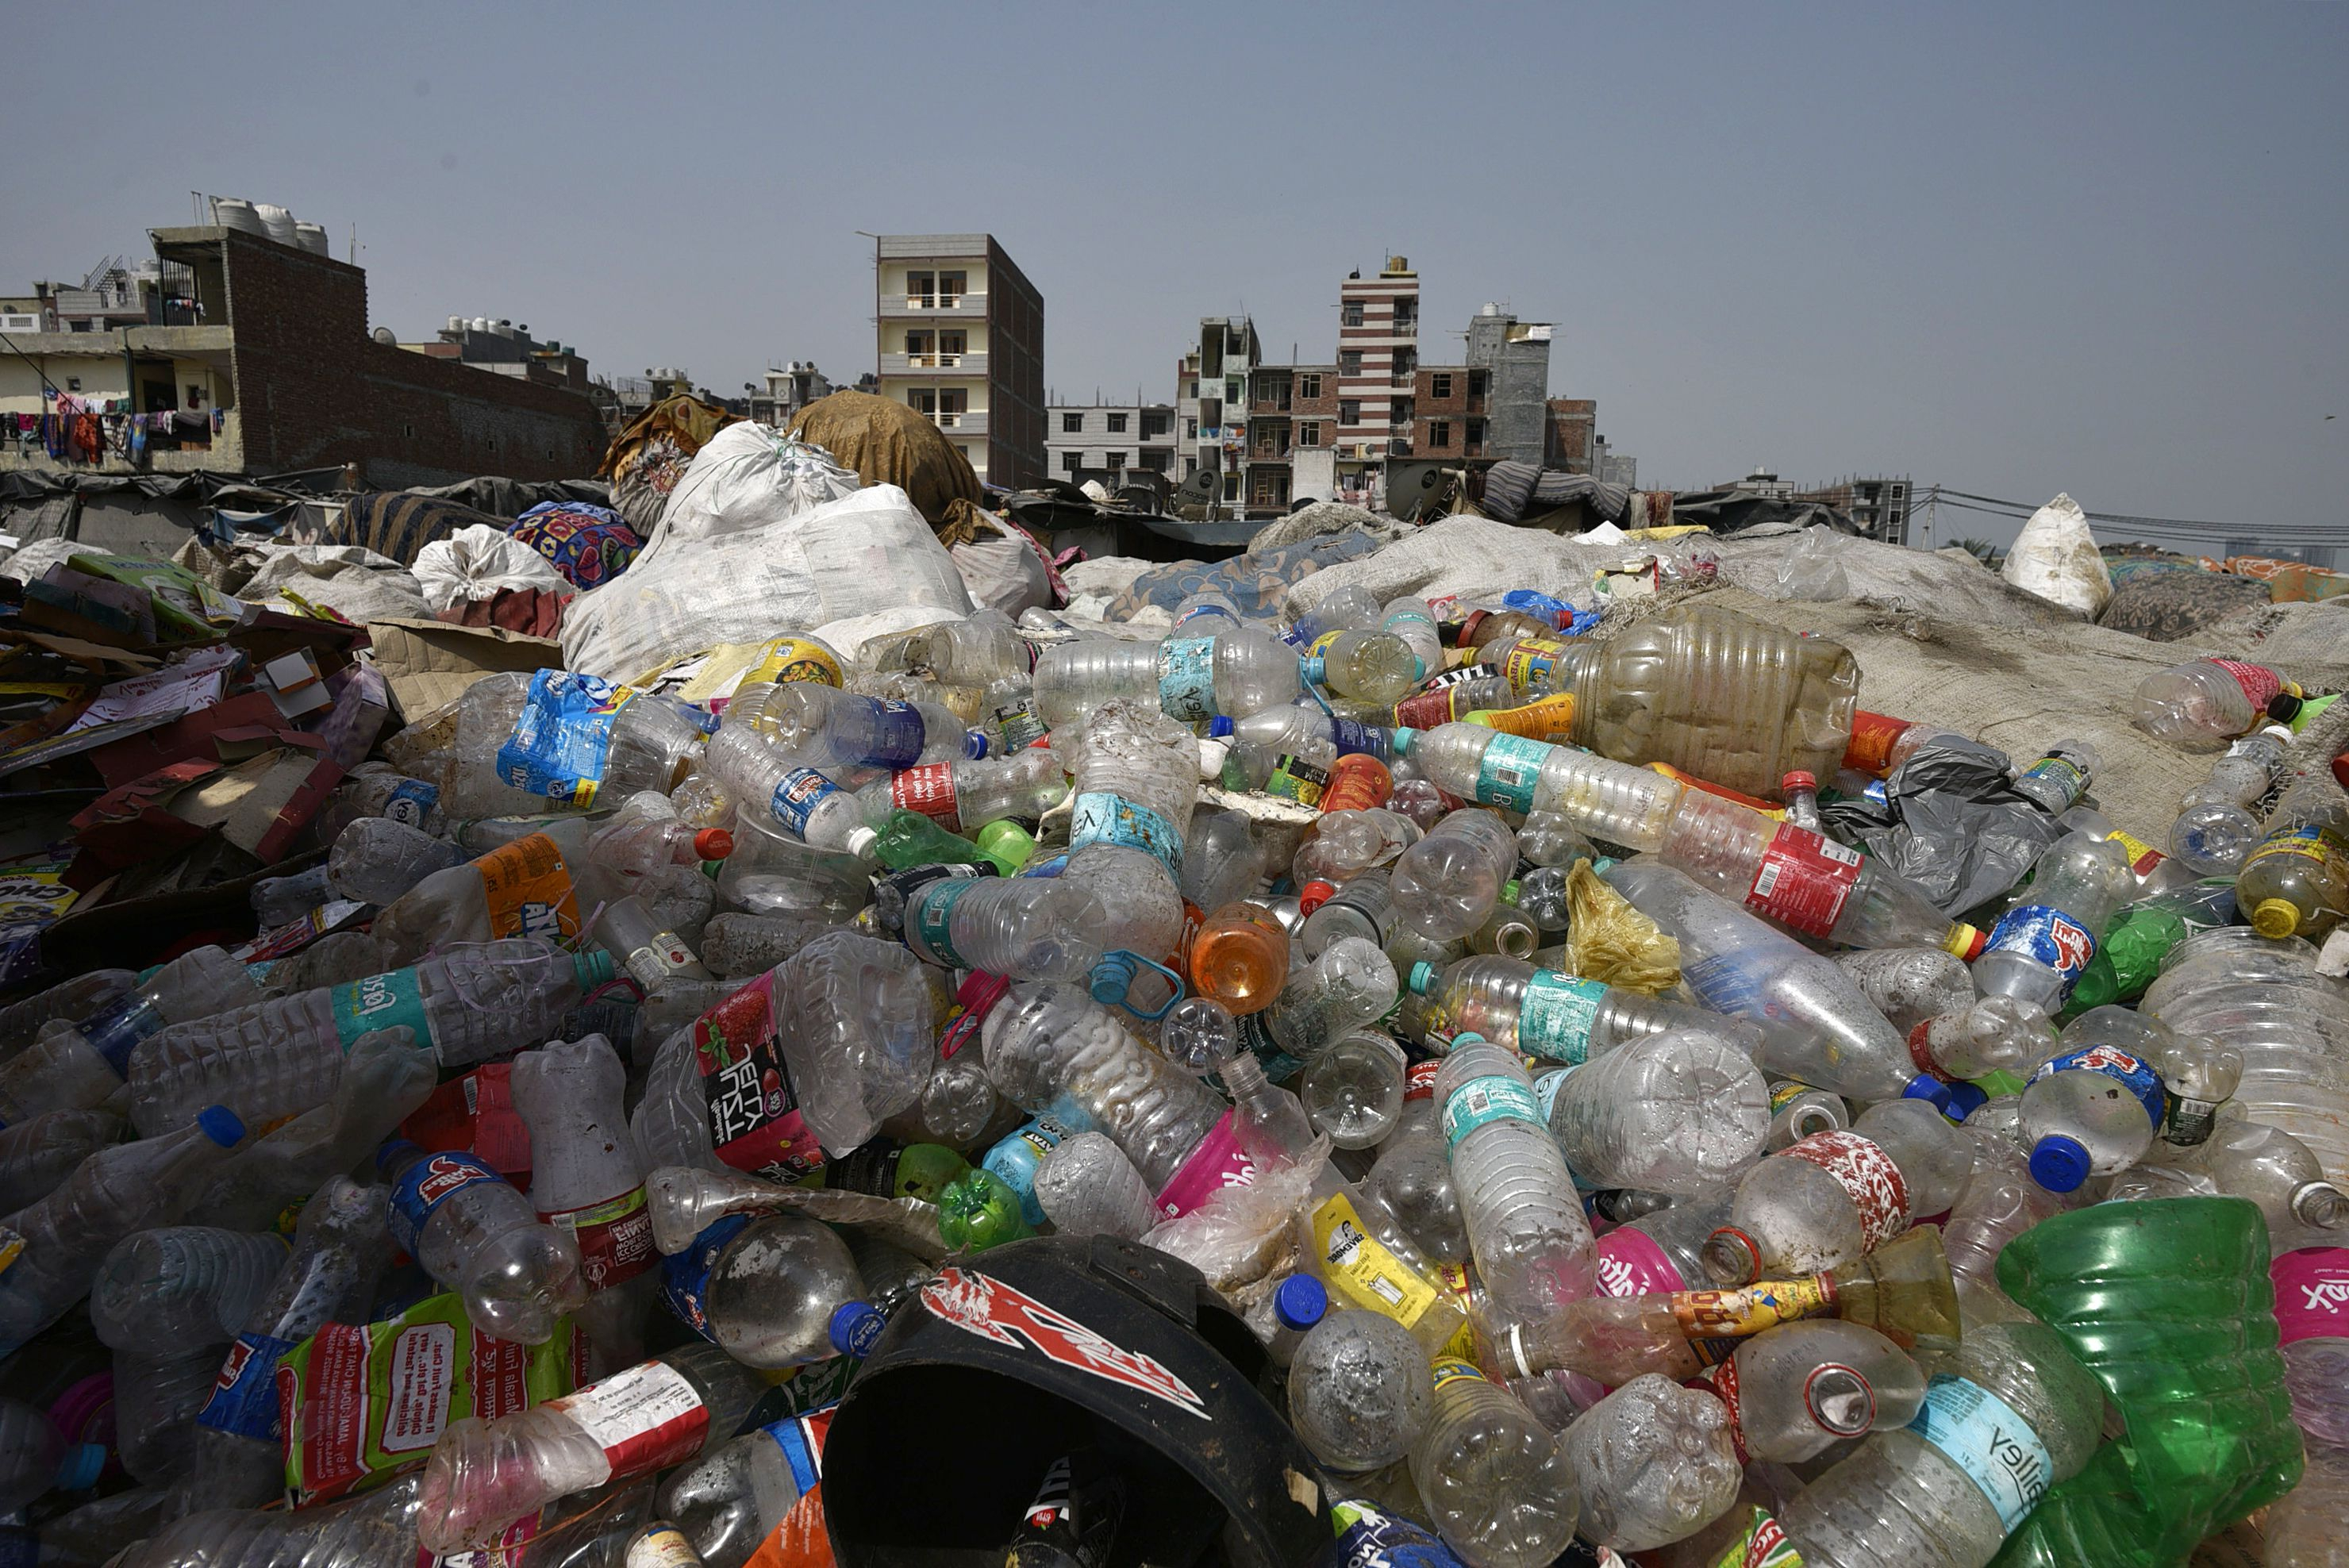plastic water bottle: (124, 913, 611, 1157), (973, 971, 1302, 1246), (1796, 1309, 2121, 1568), (404, 1332, 791, 1536), (186, 1160, 397, 1528), (0, 1092, 263, 1353), (1659, 775, 1990, 980), (616, 1169, 901, 1395), (0, 926, 280, 1144), (1397, 934, 1770, 1092), (1691, 1092, 1976, 1293), (1421, 1024, 1602, 1333), (357, 1125, 595, 1347), (1378, 1339, 1602, 1568), (1383, 707, 1689, 868), (509, 1038, 670, 1335), (1064, 693, 1194, 1024), (1031, 619, 1332, 737), (1210, 929, 1406, 1106), (2023, 989, 2195, 1190), (884, 859, 1125, 994), (1966, 821, 2135, 997), (742, 674, 989, 787), (688, 721, 880, 864), (838, 747, 1073, 836), (1208, 693, 1409, 791), (1885, 983, 2043, 1097)
